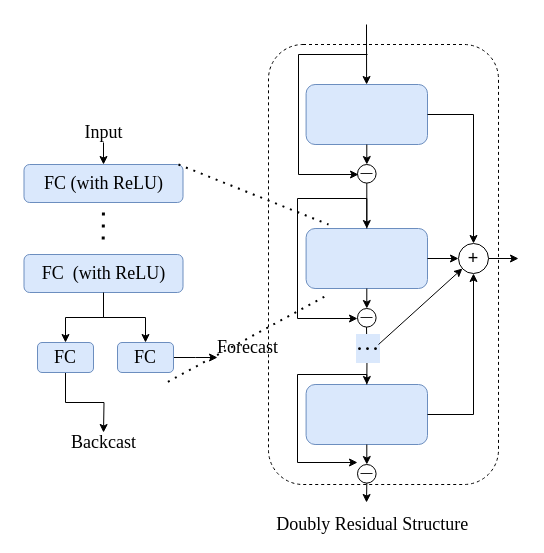
The diagram is 544 pixels wide and 553 high, and some of its shapes have lost their labels. Here are the shapes that lost their labels. From the top down, the box of each, then its label:
(305, 84, 428, 144): Block 1
(305, 228, 428, 288): Block 2
(305, 384, 428, 444): Block n
